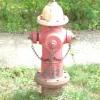a fire hydrant: (31, 5, 74, 89)
